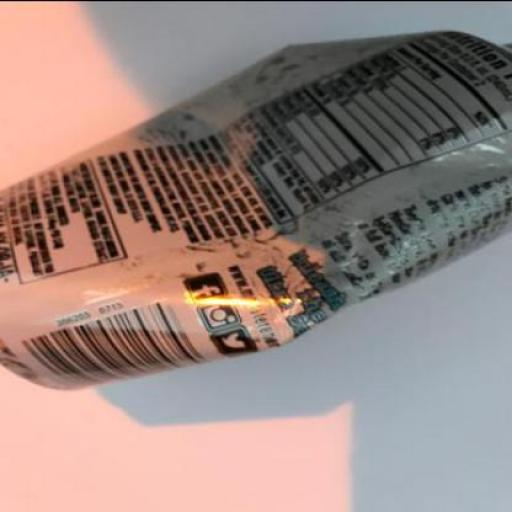metal: (0, 30, 511, 392)
